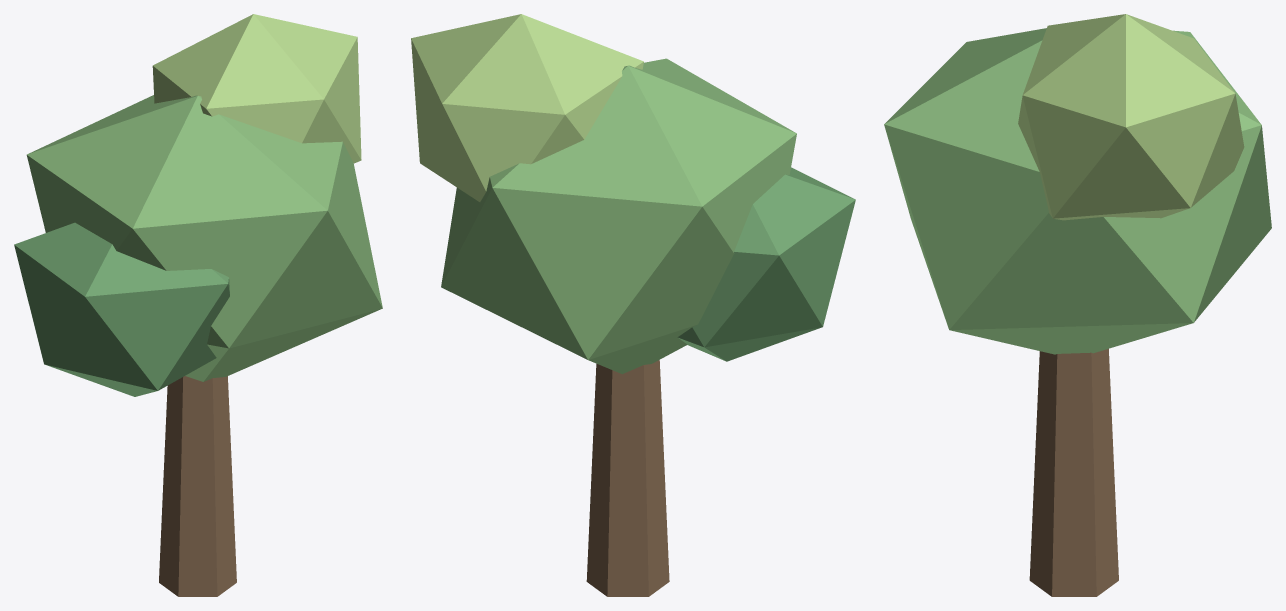
The model's file is tree_round.glb.
3 views of the same model, side by side, from view 1: azimuth 30°, elevation 25°; view 2: azimuth 150°, elevation 25°; view 3: azimuth 270°, elevation 25° (orthographic). The views are drawn at different scales.
Visible parts, largest first — view 1: tree_round; view 2: tree_round; view 3: tree_round.
Boxes of the visible parts, box(x1,y1,x2,y2) form: tree_round: box(14, 14, 382, 596); tree_round: box(411, 14, 855, 596); tree_round: box(884, 14, 1271, 596).
Size of the model in its own units: 2.7 by 3.91 by 2.26.
